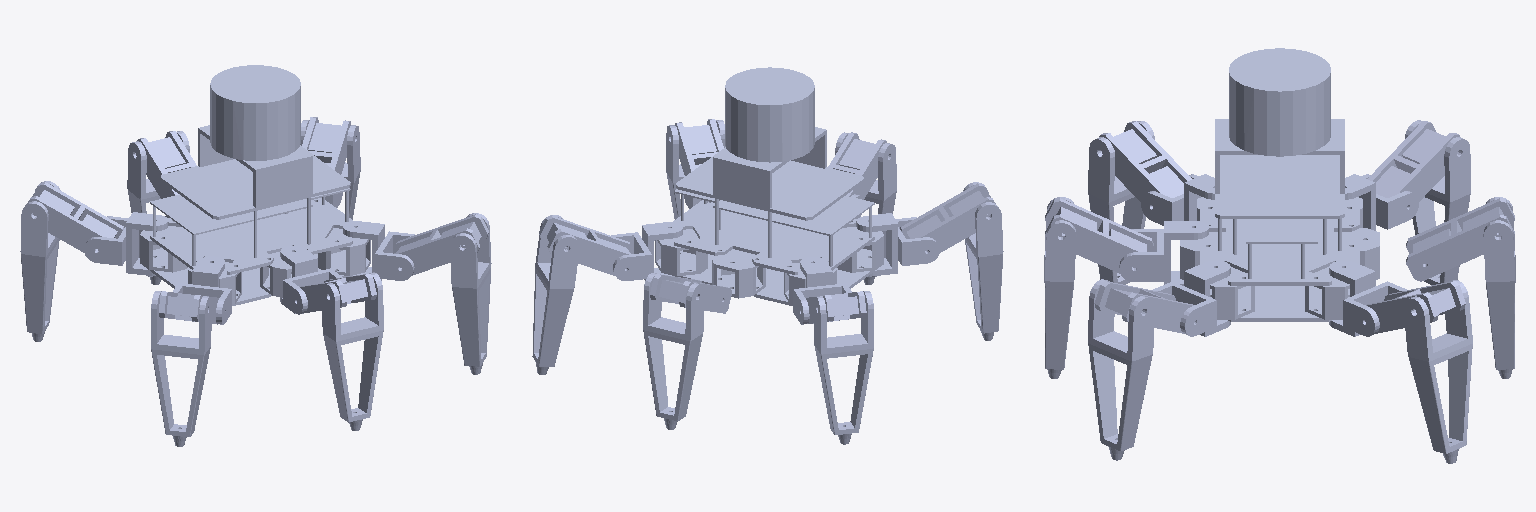
--- What the picture shows (computed from the rendered views, not written in the file) ---
Views: 3 orthographic renders of the robot side by side, from view 1: azimuth 30°, elevation 25°; view 2: azimuth 150°, elevation 25°; view 3: azimuth 270°, elevation 25°.
Robot: hexapod_haibot — 32 links, 31 joints (18 revolute, 13 fixed); root link base_link; default pose: all joints at 0.
Links seen in each view (by area): view 1: base_link, tibia_3, tibia_1, tibia_5, tibia_6, femur_6, femur_1, coxa_6, coxa_1, coxa_3, femur_4, coxa_5 (+5 smaller); view 2: base_link, tibia_4, tibia_2, tibia_6, tibia_5, femur_5, femur_2, coxa_5, coxa_2, femur_3, femur_4, coxa_6 (+4 smaller); view 3: base_link, tibia_2, tibia_1, femur_4, tibia_3, tibia_4, femur_5, femur_6, femur_3, tibia_6, tibia_5, coxa_2 (+6 smaller).
Boxes of the visible links, left/top/right/bottom form: base_link: left=140, top=65, right=370, bottom=305; tibia_3: left=322, top=272, right=383, bottom=430; tibia_1: left=450, top=213, right=491, bottom=374; tibia_5: left=151, top=291, right=211, bottom=446; tibia_6: left=20, top=181, right=60, bottom=341; femur_6: left=28, top=182, right=123, bottom=252; femur_1: left=394, top=214, right=488, bottom=275; coxa_6: left=84, top=212, right=167, bottom=275; coxa_1: left=343, top=221, right=414, bottom=280; coxa_3: left=280, top=246, right=342, bottom=314; femur_4: left=137, top=131, right=196, bottom=198; coxa_5: left=173, top=256, right=231, bottom=324; base_link: left=655, top=67, right=883, bottom=305; tibia_4: left=643, top=273, right=704, bottom=429; tibia_2: left=532, top=215, right=579, bottom=374; tibia_6: left=814, top=291, right=873, bottom=444; tibia_5: left=963, top=182, right=1003, bottom=340; femur_5: left=900, top=183, right=995, bottom=252; femur_2: left=539, top=215, right=632, bottom=275; coxa_5: left=856, top=213, right=939, bottom=276; coxa_2: left=611, top=222, right=682, bottom=280; femur_3: left=828, top=132, right=886, bottom=198; femur_4: left=650, top=274, right=731, bottom=313; coxa_6: left=793, top=257, right=851, bottom=324; base_link: left=1180, top=48, right=1379, bottom=321; tibia_2: left=1403, top=280, right=1472, bottom=463; tibia_1: left=1088, top=279, right=1154, bottom=460; femur_4: left=1406, top=198, right=1514, bottom=281; tibia_3: left=1044, top=197, right=1076, bottom=378; tibia_4: left=1483, top=197, right=1515, bottom=378; femur_5: left=1099, top=121, right=1191, bottom=201; femur_6: left=1368, top=121, right=1459, bottom=201; femur_3: left=1045, top=198, right=1153, bottom=273; tibia_6: left=1405, top=120, right=1470, bottom=284; tibia_5: left=1088, top=121, right=1154, bottom=284; coxa_2: left=1329, top=261, right=1406, bottom=336.
Bounding box of the posed robot: 0.4463 × 0.4723 × 0.3404 m (x, y, z).
Meshes: 20 distinct files referenced, 18 mesh visuals loaded (14 binary STL); not drawn: 6 (reference not matched to a file when rendering).

The robot description file, URDF, robot "hexapod_haibot":
<?xml version="1.0"?>
<!-- This URDF was automatically created by SolidWorks to URDF Exporter! Originally created by Stephen Brawner ([email redacted]) 
     Commit Version: 1.6.0-4-g7f85cfe  Build Version: 1.6.7995.38578
     For more information, please see http://wiki.ros.org/sw_urdf_exporter -->
<robot name="hexapod_haibot" xmlns:xacro="http://www.ros.org/wiki/xacro">

  <!-- MATERIAL PROPERTIES -->
  <gazebo reference="base_link">
    <material>Gazebo/DarkGrey</material>
  </gazebo>
  <gazebo reference="coxa_1">
    <material>Gazebo/FlatBlack</material>
  </gazebo>
  <gazebo reference="coxa_2">
    <material>Gazebo/FlatBlack</material>
  </gazebo>
  <gazebo reference="coxa_3">
    <material>Gazebo/FlatBlack</material>
  </gazebo>
  <gazebo reference="coxa_4">
    <material>Gazebo/FlatBlack</material>
  </gazebo>
  <gazebo reference="coxa_5">
    <material>Gazebo/FlatBlack</material>
  </gazebo>
  <gazebo reference="coxa_6">
    <material>Gazebo/FlatBlack</material>
  </gazebo>
  <gazebo reference="femur_1">
    <material>Gazebo/TurquoiseGlowOutline</material>
  </gazebo>
  <gazebo reference="femur_2">
    <material>Gazebo/TurquoiseGlowOutline</material>
  </gazebo>
  <gazebo reference="femur_3">
    <material>Gazebo/TurquoiseGlowOutline</material>
  </gazebo>
  <gazebo reference="femur_4">
    <material>Gazebo/TurquoiseGlowOutline</material>
  </gazebo>
  <gazebo reference="femur_5">
    <material>Gazebo/TurquoiseGlowOutline</material>
  </gazebo>
  <gazebo reference="femur_6">
    <material>Gazebo/TurquoiseGlowOutline</material>
  </gazebo>
  <gazebo reference="tibia_1">
    <material>Gazebo/FlatBlack</material>
  </gazebo>
  <gazebo reference="tibia_2">
    <material>Gazebo/FlatBlack</material>
  </gazebo>
  <gazebo reference="tibia_3">
    <material>Gazebo/FlatBlack</material>
  </gazebo>
  <gazebo reference="tibia_4">
    <material>Gazebo/FlatBlack</material>
  </gazebo>
  <gazebo reference="tibia_5">
    <material>Gazebo/FlatBlack</material>
  </gazebo>
  <gazebo reference="tibia_6">
    <material>Gazebo/FlatBlack</material>
  </gazebo>

  <!-- ############################################################################################################### -->
  <!-- ROBOT BASE -->
  <link name="base_link">
    <inertial>
      <origin
        xyz="-0.000235954357342192 7.5432764818938E-06 0.1227178717292"
        rpy="0 0 0" />
      <mass
        value="1.21169978454244" />
      <inertia
        ixx="0.00915831944870311"
        ixy="-7.1052111963795E-07"
        ixz="-8.84150170670575E-06"
        iyy="0.00979644782668003"
        iyz="1.97028180144623E-07"
        izz="0.00428132557153675" />
    </inertial>
    <visual>
      <origin
        xyz="0 0 0"
        rpy="0 0 0" />
      <geometry>
        <mesh
          filename="package://hexapod_haibot/meshes/base_link.STL" />
      </geometry>
      <material
        name="">
        <color
          rgba="0.792156862745098 0.819607843137255 0.929411764705882 1" />
      </material>
    </visual>
    <collision>
      <origin
        xyz="0 0 0"
        rpy="0 0 0" />
      <geometry>
        <mesh
          filename="package://hexapod_haibot/meshes/base_link.STL" />
      </geometry>
    </collision>
  </link>
  
  <!-- ############################################################################################################### -->
  <!-- LEG 1 -->
  <link name="coxa_1">
    <inertial>
      <origin
        xyz="0.0299971745393872 2.63709657195854E-06 0.022"
        rpy="0 0 0" />
      <mass
        value="0.0551210467328803" />
      <inertia
        ixx="3.53282132522675E-05"
        ixy="-4.36119640905399E-09"
        ixz="-1.55271915250144E-21"
        iyy="3.83050011945573E-05"
        iyz="-2.05291309065013E-21"
        izz="3.83009260758547E-05" />
    </inertial>
    <visual>
      <origin
        xyz="0 0 0"
        rpy="0 0 0" />
      <geometry>
        <mesh
          filename="package://hexapod_haibot/meshes/coxa_1.STL" />
      </geometry>
      <material
        name="">
        <color
          rgba="0.792156862745098 0.819607843137255 0.933333333333333 1" />
      </material>
    </visual>
    <collision>
      <origin
        xyz="0 0 0"
        rpy="0 0 0" />
      <geometry>
        <mesh
          filename="package://hexapod_haibot/meshes/coxa_1.STL" />
      </geometry>
    </collision>
  </link>

  <joint name="coxa_1_joint" type="revolute">
    <origin
      xyz="0.094347 -0.064347 0"
      rpy="0 0 -0.7854" />
    <parent
      link="base_link" />
    <child
      link="coxa_1" />
    <axis
      xyz="0 0 1" />
    <limit
      lower="-1.5708"
      upper="1.5708"
      effort="3"
      velocity="0.3124" />
  </joint>

  <transmission name="coxa_transmission_1">
    <type>transmission_interface/SimpleTransmission</type>
    <joint name="coxa_1_joint">
      <hardwareInterface>hardware_interface/EffortJointInterface</hardwareInterface>
    </joint>
    <actuator name="coxa_motor_1">
      <hardwareInterface>hardware_interface/EffortJointInterface</hardwareInterface>
      <mechanicalReduction>1</mechanicalReduction>
    </actuator>
  </transmission>

  <link name="femur_1">
    <inertial>
      <origin
        xyz="0.0390038961416134 2.77555756156289E-17 -0.000127300882164495"
        rpy="0 0 0" />
      <mass
        value="0.101060221285622" />
      <inertia
        ixx="2.70779732387671E-05"
        ixy="-8.89384594617015E-20"
        ixz="7.62790212769359E-09"
        iyy="0.000113343849974385"
        iyz="1.97805872036324E-20"
        izz="9.72264920104687E-05" />
    </inertial>
    <visual>
      <origin
        xyz="0 0 0"
        rpy="0 0 0" />
      <geometry>
        <mesh
          filename="package://hexapod_haibot/meshes/femur_4.STL" />
      </geometry>
      <material
        name="">
        <color
          rgba="0.792156862745098 0.819607843137255 0.933333333333333 1" />
      </material>
    </visual>
    <collision>
      <origin
        xyz="0 0 0"
        rpy="0 0 0" />
      <geometry>
        <mesh
          filename="package://hexapod_haibot/meshes/femur_4.STL" />
      </geometry>
    </collision>
  </link>

  <joint name="femur_1_joint" type="revolute">
    <origin
      xyz="0.06 0 0.022"
      rpy="1.5708 0.453 -3.1416" />
      <!-- rpy="1.5708 0.58376 -3.1416" /> -->
    <parent
      link="coxa_1" />
    <child
      link="femur_1" />
    <axis
      xyz="0 0 1" />
    <limit
      lower="-1.5708"
      upper="1.5708"
      effort="3"
      velocity="0.3124" />
  </joint>

  <transmission name="femur_transmission_1">
    <type>transmission_interface/SimpleTransmission</type>
    <joint name="femur_1_joint">
      <hardwareInterface>hardware_interface/EffortJointInterface</hardwareInterface>
    </joint>
    <actuator name="femur_motor_1">
      <hardwareInterface>hardware_interface/EffortJointInterface</hardwareInterface>
      <mechanicalReduction>1</mechanicalReduction>
    </actuator>
  </transmission>

  <link name="tibia_1">
    <inertial>
      <origin
        xyz="0.0647793877370392 1.67357076114039E-07 4.11404578147534E-08"
        rpy="0 0 0" />
      <mass
        value="0.079753578257712" />
      <inertia
        ixx="4.29473134297159E-05"
        ixy="-5.47973506953978E-10"
        ixz="1.27952682207062E-10"
        iyy="0.000201360752347867"
        iyz="-5.78595613011558E-11"
        izz="0.000168424442883887" />
    </inertial>
    <visual>
      <origin
        xyz="0 0 0"
        rpy="0 0 0" />
      <geometry>
        <mesh
          filename="package://hexapod_haibot/meshes/tibia_4.STL" />
      </geometry>
      <material
        name="">
        <color
          rgba="0.792156862745098 0.819607843137255 0.933333333333333 1" />
      </material>
    </visual>
    <collision>
      <origin
        xyz="0 0 0"
        rpy="0 0 0" />
      <geometry>
        <mesh
          filename="package://hexapod_haibot/meshes/tibia_4.STL" />
      </geometry>
    </collision>
  </link>

  <joint name="tibia_1_joint" type="revolute">
    <origin
      xyz="-0.081164 0 0"
      rpy="0 0 -1.1616" />
    <parent
      link="femur_1" />
    <child
      link="tibia_1" />
    <axis
      xyz="0 0 1" />
    <limit
      lower="-1.5708"
      upper="1.5708"
      effort="3"
      velocity="0.3124" />
  </joint>

  <transmission name="tibia_transmission_1">
    <type>transmission_interface/SimpleTransmission</type>
    <joint name="tibia_1_joint">
      <hardwareInterface>hardware_interface/EffortJointInterface</hardwareInterface>
    </joint>
    <actuator name="tibia_motor_1">
      <hardwareInterface>hardware_interface/EffortJointInterface</hardwareInterface>
      <mechanicalReduction>1</mechanicalReduction>
    </actuator>
  </transmission>

  <!-- ############################################################################################################### -->
  <!-- LEG 3 -->
  <link name="coxa_3">
    <inertial>
      <origin
        xyz="0.0299971745393872 2.63709657192536E-06 0.022"
        rpy="0 0 0" />
      <mass
        value="0.0551210467328803" />
      <inertia
        ixx="3.53282132522675E-05"
        ixy="-4.36119640902418E-09"
        ixz="3.90477967527937E-22"
        iyy="3.83050011945573E-05"
        iyz="1.21828494571067E-22"
        izz="3.83009260758546E-05" />
    </inertial>
    <visual>
      <origin
        xyz="0 0 0"
        rpy="0 0 0" />
      <geometry>
        <mesh
          filename="package://hexapod_haibot/meshes/coxa_3.STL" />
      </geometry>
      <material
        name="">
        <color
          rgba="0.792156862745098 0.819607843137255 0.933333333333333 1" />
      </material>
    </visual>
    <collision>
      <origin
        xyz="0 0 0"
        rpy="0 0 0" />
      <geometry>
        <mesh
          filename="package://hexapod_haibot/meshes/coxa_3.STL" />
      </geometry>
    </collision>
  </link>

  <joint name="coxa_3_joint" type="revolute">
    <origin
      xyz="0 -0.086 0"
      rpy="0 0 -1.5708" />
    <parent
      link="base_link" />
    <child
      link="coxa_3" />
    <axis
      xyz="0 0 1" />
    <limit
      lower="-1.5708"
      upper="1.5708"
      effort="3"
      velocity="0.3124" />
  </joint>

  <transmission name="coxa_transmission_3">
    <type>transmission_interface/SimpleTransmission</type>
    <joint name="coxa_3_joint">
      <hardwareInterface>hardware_interface/EffortJointInterface</hardwareInterface>
    </joint>
    <actuator name="coxa_motor_3">
      <hardwareInterface>hardware_interface/EffortJointInterface</hardwareInterface>
      <mechanicalReduction>1</mechanicalReduction>
    </actuator>
  </transmission>

  <link name="femur_3">
    <inertial>
      <origin
        xyz="-0.0389961038583868 2.77555756156289E-16 -0.000127300882164621"
        rpy="0 0 0" />
      <mass
        value="0.101060221285622" />
      <inertia
        ixx="2.70779732387671E-05"
        ixy="-5.33630756770209E-20"
        ixz="7.62790212764186E-09"
        iyy="0.000113343849974385"
        iyz="-2.58075379411868E-21"
        izz="9.72264920104688E-05" />
    </inertial>
    <visual>
      <origin
        xyz="0 0 0"
        rpy="0 0 0" />
      <geometry>
        <mesh
          filename="package://hexapod_haibot/meshes/femur_3.STL" />
      </geometry>
      <material
        name="">
        <color
          rgba="0.792156862745098 0.819607843137255 0.933333333333333 1" />
      </material>
    </visual>
    <collision>
      <origin
        xyz="0 0 0"
        rpy="0 0 0" />
      <geometry>
        <mesh
          filename="package://hexapod_haibot/meshes/femur_3.STL" />
      </geometry>
    </collision>
  </link>

  <joint name="femur_3_joint" type="revolute">
    <origin
      xyz="0.06 0 0.022"
      rpy="1.5708 0.453 -3.1416" />
      <!-- rpy="1.5708 0.65437 -3.1416" /> -->
    <parent
      link="coxa_3" />
    <child
      link="femur_3" />
    <axis
      xyz="0 0 1" />
    <limit
      lower="-1.5708"
      upper="1.5708"
      effort="3"
      velocity="0.3124" />
  </joint>

  <transmission name="femur_transmission_3">
    <type>transmission_interface/SimpleTransmission</type>
    <joint name="femur_3_joint">
      <hardwareInterface>hardware_interface/EffortJointInterface</hardwareInterface>
    </joint>
    <actuator name="femur_motor_3">
      <hardwareInterface>hardware_interface/EffortJointInterface</hardwareInterface>
      <mechanicalReduction>1</mechanicalReduction>
    </actuator>
  </transmission>

  <link name="tibia_3">
    <inertial>
      <origin
        xyz="0.0647793402516186 1.63043285095199E-07 0.000500038719800596"
        rpy="0 0 0" />
      <mass
        value="0.0797534321360177" />
      <inertia
        ixx="4.29472906774755E-05"
        ixy="-4.35624446704931E-10"
        ixz="1.25207647799621E-10"
        iyy="0.000201360533986022"
        iyz="-6.29881027864269E-11"
        izz="0.000168424318950458" />
    </inertial>
    <visual>
      <origin
        xyz="0 0 0"
        rpy="0 0 0" />
      <geometry>
        <mesh
          filename="package://hexapod_haibot/meshes/tibia_4.STL" />
      </geometry>
      <material
        name="">
        <color
          rgba="0.792156862745098 0.819607843137255 0.933333333333333 1" />
      </material>
    </visual>
    <collision>
      <origin
        xyz="0 0 0"
        rpy="0 0 0" />
      <geometry>
        <mesh
          filename="package://hexapod_haibot/meshes/tibia_4.STL" />
      </geometry>
    </collision>
  </link>

  <joint name="tibia_3_joint" type="revolute">
    <origin
      xyz="-0.081164 0 0"
      rpy="0 0 -1.1616" />
    <parent
      link="femur_3" />
    <child
      link="tibia_3" />
    <axis
      xyz="0 0 1" />
    <limit
      lower="-1.5708"
      upper="1.5708"
      effort="3"
      velocity="0.3124" />
  </joint>

  <transmission name="tibia_transmission_3">
    <type>transmission_interface/SimpleTransmission</type>
    <joint name="tibia_3_joint">
      <hardwareInterface>hardware_interface/EffortJointInterface</hardwareInterface>
    </joint>
    <actuator name="tibia_motor_3">
      <hardwareInterface>hardware_interface/EffortJointInterface</hardwareInterface>
      <mechanicalReduction>1</mechanicalReduction>
    </actuator>
  </transmission>

  <!-- ############################################################################################################### -->
  <!-- LEG 5 -->
  <link name="coxa_5">
    <inertial>
      <origin
        xyz="0.0299971745393872 2.63709657191691E-06 0.022"
        rpy="0 0 0" />
      <mass
        value="0.0551210467328803" />
      <inertia
        ixx="3.53282132522675E-05"
        ixy="-4.36119640903196E-09"
        ixz="9.49349879329603E-22"
        iyy="3.83050011945573E-05"
        iyz="-2.09182526603576E-21"
        izz="3.83009260758547E-05" />
    </inertial>
    <visual>
      <origin
        xyz="0 0 0"
        rpy="0 0 0" />
      <geometry>
        <mesh
          filename="package://hexapod_haibot/meshes/coxa_5.STL" />
      </geometry>
      <material
        name="">
        <color
          rgba="0.792156862745098 0.819607843137255 0.933333333333333 1" />
      </material>
    </visual>
    <collision>
      <origin
        xyz="0 0 0"
        rpy="0 0 0" />
      <geometry>
        <mesh
          filename="package://hexapod_haibot/meshes/coxa_5.STL" />
      </geometry>
    </collision>
  </link>

  <joint name="coxa_5_joint" type="revolute">
    <origin
      xyz="-0.094347 -0.064347 0"
      rpy="0 0 -2.3562" />
    <parent
      link="base_link" />
    <child
      link="coxa_5" />
    <axis
      xyz="0 0 1" />
    <limit
      lower="-1.5708"
      upper="1.5708"
      effort="3"
      velocity="0.3124" />
  </joint>

  <transmission name="coxa_transmission_5">
    <type>transmission_interface/SimpleTransmission</type>
    <joint name="coxa_5_joint">
      <hardwareInterface>hardware_interface/EffortJointInterface</hardwareInterface>
    </joint>
    <actuator name="coxa_motor_5">
      <hardwareInterface>hardware_interface/EffortJointInterface</hardwareInterface>
      <mechanicalReduction>1</mechanicalReduction>
    </actuator>
  </transmission>

  <link name="femur_5">
    <inertial>
      <origin
        xyz="-0.0389961038583868 2.63677968348475E-16 0.000372699117835631"
        rpy="0 0 0" />
      <mass
        value="0.101060221285622" />
      <inertia
        ixx="2.70779732387672E-05"
        ixy="-3.89635155736978E-20"
        ixz="7.62790212769673E-09"
        iyy="0.000113343849974385"
        iyz="-1.00933501008031E-20"
        izz="9.72264920104688E-05" />
    </inertial>
    <visual>
      <origin
        xyz="0 0 0"
        rpy="0 0 0" />
      <geometry>
        <mesh
          filename="package://hexapod_haibot/meshes/femur_5.STL" />
      </geometry>
      <material
        name="">
        <color
          rgba="0.792156862745098 0.819607843137255 0.933333333333333 1" />
      </material>
    </visual>
    <collision>
      <origin
        xyz="0 0 0"
        rpy="0 0 0" />
      <geometry>
        <mesh
          filename="package://hexapod_haibot/meshes/femur_5.STL" />
      </geometry>
    </collision>
  </link>

  <joint name="femur_5_joint" type="revolute">
    <origin
      xyz="0.06 0 0.022"
      rpy="1.5708 0.453 -3.1416" />
      <!-- rpy="1.5708 0.59326 -3.1416" /> -->
    <parent
      link="coxa_5" />
    <child
      link="femur_5" />
    <axis
      xyz="0 0 1" />
    <limit
      lower="-1.5708"
      upper="1.5708"
      effort="3"
      velocity="0.3124" />
  </joint>

  <transmission name="femur_transmission_5">
    <type>transmission_interface/SimpleTransmission</type>
    <joint name="femur_5_joint">
      <hardwareInterface>hardware_interface/EffortJointInterface</hardwareInterface>
    </joint>
    <actuator name="femur_motor_5">
      <hardwareInterface>hardware_interface/EffortJointInterface</hardwareInterface>
      <mechanicalReduction>1</mechanicalReduction>
    </actuator>
  </transmission>

  <link name="tibia_5">
    <inertial>
      <origin
        xyz="0.064779381457328 1.66896180764375E-07 3.80265846762484E-08"
        rpy="0 0 0" />
      <mass
        value="0.0797535514364952" />
      <inertia
        ixx="4.29473122557609E-05"
        ixy="-5.2039318251951E-10"
        ixz="1.2934666126771E-10"
        iyy="0.000201360728465127"
        iyz="-5.89853202898421E-11"
        izz="0.000168424442624692" />
    </inertial>
    <visual>
      <origin
        xyz="0 0 0"
        rpy="0 0 0" />
      <geometry>
        <mesh
          filename="package://hexapod_haibot/meshes/tibia_4.STL" />
      </geometry>
      <material
        name="">
        <color
          rgba="0.792156862745098 0.819607843137255 0.933333333333333 1" />
      </material>
    </visual>
    <collision>
      <origin
        xyz="0 0 0"
        rpy="0 0 0" />
      <geometry>
        <mesh
          filename="package://hexapod_haibot/meshes/tibia_4.STL" />
      </geometry>
    </collision>
  </link>

  <joint name="tibia_5_joint" type="revolute">
    <origin
      xyz="-0.081164 0 0"
      rpy="0 0 -1.1616" />
    <parent
      link="femur_5" />
    <child
      link="tibia_5" />
    <axis
      xyz="0 0 1" />
    <limit
      lower="-1.5708"
      upper="1.5708"
      effort="3"
      velocity="0.3124" />
  </joint>

  <transmission name="tibia_transmission_5">
    <type>transmission_interface/SimpleTransmission</type>
    <joint name="tibia_5_joint">
      <hardwareInterface>hardware_interface/EffortJointInterface</hardwareInterface>
    </joint>
    <actuator name="tibia_motor_5">
      <hardwareInterface>hardware_interface/EffortJointInterface</hardwareInterface>
      <mechanicalReduction>1</mechanicalReduction>
    </actuator>
  </transmission>

  <!-- ############################################################################################################### --> 
  <!-- LEG 2 -->
  <link name="coxa_2">
    <inertial>
      <origin
        xyz="0.0299971745393872 2.63709657193772E-06 0.022"
        rpy="0 0 0" />
      <mass
        value="0.0551210467328803" />
      <inertia
        ixx="3.53282132522675E-05"
        ixy="-4.3611964090218E-09"
        ixz="8.81059334345057E-21"
        iyy="3.83050011945573E-05"
        iyz="-4.92950676674719E-21"
        izz="3.83009260758546E-05" />
    </inertial>
    <visual>
      <origin
        xyz="0 0 0"
        rpy="0 0 0" />
      <geometry>
        <mesh
          filename="package://hexapod_haibot/meshes/coxa_2.STL" />
      </geometry>
      <material
        name="">
        <color
          rgba="0.792156862745098 0.819607843137255 0.933333333333333 1" />
      </material>
    </visual>
    <collision>
      <origin
        xyz="0 0 0"
        rpy="0 0 0" />
      <geometry>
        <mesh
          filename="package://hexapod_haibot/meshes/coxa_2.STL" />
      </geometry>
    </collision>
  </link>

  <joint name="coxa_2_joint" type="revolute">
    <origin
      xyz="0.094347 0.064347 0"
      rpy="0 0 0.7854" />
    <parent
      link="base_link" />
    <child
      link="coxa_2" />
    <axis
      xyz="0 0 1" />
    <limit
      lower="-1.5708"
      upper="1.5708"
      effort="3"
      velocity="0.3124" />
  </joint>

  <transmission name="coxa_transmission_2">
    <type>transmission_interface/SimpleTransmission</type>
    <joint name="coxa_2_joint">
      <hardwareInterface>hardware_interface/EffortJointInterface</hardwareInterface>
    </joint>
    <actuator name="coxa_motor_2">
      <hardwareInterface>hardware_interface/EffortJointInterface</hardwareInterface>
      <mechanicalReduction>1</mechanicalReduction>
    </actuator>
  </transmission>

  <link name="femur_2">
    <inertial>
      <origin
        xyz="0.0390038961416136 2.22044604925031E-16 0.000372699117835738"
        rpy="0 0 0" />
      <mass
        value="0.101060221285622" />
      <inertia
        ixx="2.70779732387671E-05"
        ixy="1.94817577868489E-20"
        ixz="7.62790212765604E-09"
        iyy="0.000113343849974385"
        iyz="-7.75657963482918E-21"
        izz="9.72264920104688E-05" />
    </inertial>
    <visual>
      <origin
        xyz="0 0 0"
        rpy="0 0 0" />
      <geometry>
        <mesh
          filename="package://hexapod_haibot/meshes/femur_2.STL" />
      </geometry>
      <material
        name="">
        <color
          rgba="0.792156862745098 0.819607843137255 0.933333333333333 1" />
      </material>
    </visual>
    <collision>
      <origin
        xyz="0 0 0"
        rpy="0 0 0" />
      <geometry>
        <mesh
          filename="package://hexapod_haibot/meshes/femur_2.STL" />
      </geometry>
    </collision>
  </link>

  <joint name="femur_2_joint" type="revolute">
    <origin
      xyz="0.06 0 0.022"
      rpy="-1.5708 -0.453 0" />
      <!-- rpy="-1.5708 -0.57076 0" /> -->
    <parent
      link="coxa_2" />
    <child
      link="femur_2" />
    <axis
      xyz="0 0 1" />
    <limit
      lower="-1.5708"
      upper="1.5708"
      effort="3"
      velocity="0.3124" />
  </joint>

  <transmission name="femur_transmission_2">
    <type>transmission_interface/SimpleTransmission</type>
    <joint name="femur_2_joint">
      <hardwareInterface>hardware_interface/EffortJointInterface</hardwareInterface>
    </joint>
    <actuator name="femur_motor_2">
      <hardwareInterface>hardware_interface/EffortJointInterface</hardwareInterface>
      <mechanicalReduction>1</mechanicalReduction>
    </actuator>
  </transmission>

  <link name="tibia_2">
    <inertial>
      <origin
        xyz="0.064779231371056 1.52274239939576E-07 2.12012769632008E-08"
        rpy="0 0 0" />
      <mass
        value="0.0797532028820055" />
      <inertia
        ixx="4.29472740175955E-05"
        ixy="-2.2659872412311E-10"
        ixz="1.75883824017712E-10"
        iyy="0.000201359999099"
        iyz="-5.69751259824872E-11"
        izz="0.00016842391204068" />
    </inertial>
    <visual>
      <origin
        xyz="0 0 0"
        rpy="0 0 0" />
      <geometry>
        <mesh
          filename="package://hexapod_haibot/meshes/tibia_2.STL" />
      </geometry>
      <material
        name="">
        <color
          rgba="0.792156862745098 0.819607843137255 0.933333333333333 1" />
      </material>
    </visual>
    <collision>
      <origin
        xyz="0 0 0"
        rpy="0 0 0" />
      <geometry>
        <mesh
          filename="package://hexapod_haibot/meshes/tibia_2.STL" />
      </geometry>
    </collision>
  </link>

  <joint name="tibia_2_joint" type="revolute">
    <origin
      xyz="0.078299 0 0"
      rpy="0 0 1.8965" />
    <parent
      link="femur_2" />
    <child
      link="tibia_2" />
    <axis
      xyz="0 0 1" />
    <limit
      lower="-1.5708"
      upper="1.5708"
      effort="3"
      velocity="0.3124" />
  </joint>

  <transmission name="tibia_transmission_2">
    <type>transmission_interface/SimpleTransmission</type>
    <joint name="tibia_2_joint">
      <hardwareInterface>hardware_interface/EffortJointInterface</hardwareInterface>
    </joint>
    <actuator name="tibia_motor_2">
      <hardwareInterface>hardware_interface/EffortJointInterface</hardwareInterface>
      <mechanicalReduction>1</mechanicalReduction>
    </actuator>
  </transmission>

  <!-- ############################################################################################################### -->
  <!-- LEG 4 -->
  <link name="coxa_4">
    <inertial>
      <origin
        xyz="0.0299971745393872 2.63709657194071E-06 0.022"
        rpy="0 0 0" />
      <mass
        value="0.0551210467328803" />
      <inertia
        ixx="3.53282132522675E-05"
        ixy="-4.36119640900866E-09"
        ixz="-5.5724425287956E-21"
        iyy="3.83050011945573E-05"
        iyz="5.74553126754583E-22"
        izz="3.83009260758547E-05" />
    </inertial>
    <visual>
      <origin
        xyz="0 0 0"
        rpy="0 0 0" />
      <geometry>
        <mesh
          filename="package://hexapod_haibot/meshes/coxa_4.STL" />
      </geometry>
      <material
        name="">
        <color
          rgba="0.792156862745098 0.819607843137255 0.933333333333333 1" />
      </material>
    </visual>
    <collision>
      <origin
        xyz="0 0 0"
        rpy="0 0 0" />
      <geometry>
        <mesh
          filename="package://hexapod_haibot/meshes/coxa_4.STL" />
      </geometry>
    </collision>
  </link>

  <joint name="coxa_4_joint" type="revolute">
    <origin
      xyz="0 0.086 0"
      rpy="0 0 1.5708" />
    <parent
      link="base_link" />
    <child
      link="coxa_4" />
    <axis
      xyz="0 0 1" />
    <limit
      lower="-1.5708"
      upper="1.5708"
      effort="3"
      velocity="0.3124" />
  </joint>

  <transmission name="coxa_transmission_4">
    <type>transmission_interface/SimpleTransmission</type>
    <joint name="coxa_4_joint">
      <hardwareInterface>hardware_interface/EffortJointInterface</hardwareInterface>
    </joint>
    <actuator name="coxa_motor_4">
      <hardwareInterface>hardware_interface/EffortJointInterface</hardwareInterface>
      <mechanicalReduction>1</mechanicalReduction>
    </actuator>
  </transmission>

  <link name="femur_4">
    <inertial>
      <origin
        xyz="-0.0389961038583868 6.93889390390723E-18 0.000372699117835451"
        rpy="0 0 0" />
      <mass
        value="0.101060221285622" />
      <inertia
        ixx="2.70779732387671E-05"
        ixy="-5.9292306307801E-20"
        ixz="7.62790212765125E-09"
        iyy="0.000113343849974385"
        iyz="-8.20455604477386E-22"
        izz="9.72264920104686E-05" />
    </inertial>
    <visual>
      <origin
        xyz="0 0 0"
        rpy="0 0 0" />
      <geometry>
        <mesh
          filename="package://hexapod_haibot/meshes/femur_4.STL" />
      </geometry>
      <material
        name="">
        <color
          rgba="0.792156862745098 0.819607843137255 0.933333333333333 1" />
      </material>
    </visual>
    <collision>
      <origin
        xyz="0 0 0"
        rpy="0 0 0" />
      <geometry>
        <mesh
          filename="package://hexapod_haibot/meshes/femur_4.STL" />
      </geometry>
    </collision>
  </link>

  <joint name="femur_4_joint" type="revolute">
    <origin
      xyz="0.06 0 0.022"
      rpy="1.5708 0.453 -3.1416" />
      <!-- rpy="1.5708 0.58376 -3.1416" /> -->
    <parent
      link="coxa_4" />
    <child
      link="femur_4" />
    <axis
      xyz="0 0 1" />
    <limit
      lower="-1.5708"
      upper="1.5708"
      effort="3"
      velocity="0.3124" />
  </joint>

  <transmission name="femur_transmission_4">
    <type>transmission_interface/SimpleTransmission</type>
    <joint name="femur_4_joint">
      <hardwareInterface>hardware_interface/EffortJointInterface</hardwareInterface>
    </joint>
    <actuator name="femur_motor_4">
      <hardwareInterface>hardware_interface/EffortJointInterface</hardwareInterface>
      <mechanicalReduction>1</mechanicalReduction>
    </actuator>
  </transmission>

  <link name="tibia_4">
    <inertial>
      <origin
        xyz="0.0647793120469972 1.611279220326E-07 3.42567992672011E-08"
        rpy="0 0 0" />
      <mass
        value="0.07975336132891" />
      <inertia
        ixx="4.29472859486317E-05"
        ixy="-3.70486815925145E-10"
        ixz="1.35541564551716E-10"
        iyy="0.000201360398778229"
        iyz="-6.22672928709645E-11"
        izz="0.000168424231028227" />
    </inertial>
    <visual>
      <origin
        xyz="0 0 0"
        rpy="0 0 0" />
      <geometry>
        <mesh
          filename="package://hexapod_haibot/meshes/tibia_4.STL" />
      </geometry>
      <material
        name="">
        <color
          rgba="0.792156862745098 0.819607843137255 0.933333333333333 1" />
      </material>
    </visual>
    <collision>
      <origin
        xyz="0 0 0"
        rpy="0 0 0" />
      <geometry>
        <mesh
          filename="package://hexapod_haibot/meshes/tibia_4.STL" />
      </geometry>
    </collision>
  </link>

  <joint name="tibia_4_joint" type="revolute">
    <origin
      xyz="-0.081164 0 0"
      rpy="0 0 -1.1616" />
    <parent
      link="femur_4" />
    <child
      link="tibia_4" />
    <axis
      xyz="0 0 1" />
    <limit
      lower="-1.5708"
      upper="1.5708"
      effort="3"
      velocity="0.3124" />
  </joint>

  <transmission name="tibia_transmission_4">
    <type>transmission_interface/SimpleTransmission</type>
    <joint name="tibia_4_joint">
      <hardwareInterface>hardware_interface/EffortJointInterface</hardwareInterface>
    </joint>
    <actuator name="tibia_motor_4">
      <hardwareInterface>hardware_interface/EffortJointInterface</hardwareInterface>
      <mechanicalReduction>1</mechanicalReduction>
    </actuator>
  </transmission>

  <!-- ############################################################################################################### -->
  <!-- LEG 6 -->
  <link name="coxa_6">
    <inertial>
      <origin
        xyz="0.0299971745393872 2.63709657190303E-06 0.022"
        rpy="0 0 0" />
      <mass
        value="0.0551210467328803" />
      <inertia
        ixx="3.53282132522675E-05"
        ixy="-4.36119640898961E-09"
        ixz="-1.11907764682274E-21"
        iyy="3.83050011945573E-05"
        iyz="-1.36376804916686E-21"
        izz="3.83009260758547E-05" />
    </inertial>
    <visual>
      <origin
        xyz="0 0 0"
        rpy="0 0 0" />
      <geometry>
        <mesh
          filename="package://hexapod_haibot/meshes/coxa_6.STL" />
      </geometry>
      <material
        name="">
        <color
          rgba="0.792156862745098 0.819607843137255 0.933333333333333 1" />
      </material>
    </visual>
    <collision>
      <origin
        xyz="0 0 0"
        rpy="0 0 0" />
      <geometry>
        <mesh
          filename="package://hexapod_haibot/meshes/coxa_6.STL" />
      </geometry>
    </collision>
  </link>

  <joint name="coxa_6_joint" type="revolute">
    <origin
      xyz="-0.094347 0.064347 0"
      rpy="0 0 2.3562" />
    <parent
      link="base_link" />
    <child
      link="coxa_6" />
    <axis
      xyz="0 0 1" />
    <limit
      lower="-1.5708"
      upper="1.5708"
      effort="3"
      velocity="0.3124" />
  </joint>

  <transmission name="coxa_transmission_6">
    <type>transmission_interface/SimpleTransmission</type>
    <joint name="coxa_6_joint">
      <hardwareInterface>hardware_interface/EffortJointInterface</hardwareInterface>
    </joint>
    <actuator name="coxa_motor_6">
      <hardwareInterface>hardware_interface/EffortJointInterface</hardwareInterface>
      <mechanicalReduction>1</mechanicalReduction>
    </actuator>
  </transmission>

  <link name="femur_6">
    <inertial>
      <origin
        xyz="-0.0389961038583869 3.46944695195361E-16 0.00037269911783694"
        rpy="0 0 0" />
      <mass
        value="0.101060221285622" />
      <inertia
        ixx="2.70779732387671E-05"
        ixy="6.09863722023096E-20"
        ixz="7.62790212765522E-09"
        iyy="0.000113343849974385"
        iyz="-1.14391904525344E-21"
        izz="9.72264920104687E-05" />
    </inertial>
    <visual>
      <origin
        xyz="0 0 0"
        rpy="0 0 0" />
      <geometry>
        <mesh
          filename="package://hexapod_haibot/meshes/femur_6.STL" />
      </geometry>
      <material
        name="">
        <color
          rgba="0.792156862745098 0.819607843137255 0.933333333333333 1" />
      </material>
    </visual>
    <collision>
      <origin
        xyz="0 0 0"
        rpy="0 0 0" />
      <geometry>
        <mesh
          filename="package://hexapod_haibot/meshes/femur_6.STL" />
      </geometry>
    </collision>
  </link>

  <joint name="femur_6_joint" type="revolute">
    <origin
      xyz="0.06 0 0.022"
      rpy="1.5708 0.453 -3.1416" />
      <!-- rpy="1.5708 0.6261 -3.1416" /> -->
    <parent
      link="coxa_6" />
    <child
      link="femur_6" />
    <axis
      xyz="0 0 1" />
    <limit
      lower="-1.5708"
      upper="1.5708"
      effort="3"
      velocity="0.3124" />
  </joint>

  <transmission name="femur_transmission_6">
    <type>transmission_interface/SimpleTransmission</type>
    <joint name="femur_6_joint">
      <hardwareInterface>hardware_interface/EffortJointInterface</hardwareInterface>
    </joint>
    <actuator name="femur_motor_6">
      <hardwareInterface>hardware_interface/EffortJointInterface</hardwareInterface>
      <mechanicalReduction>1</mechanicalReduction>
    </actuator>
  </transmission>

  <link name="tibia_6">
    <inertial>
      <origin
        xyz="0.0647792452262229 1.53521399037793E-07 0.00050002469269308"
        rpy="0 0 0" />
      <mass
        value="0.0797532266116497" />
      <inertia
        ixx="4.29472765643027E-05"
        ixy="-2.4511138159032E-10"
        ixz="1.64681151053905E-10"
        iyy="0.000201360069597061"
        iyz="-5.8558763893337E-11"
        izz="0.000168423974316692" />
    </inertial>
    <visual>
      <origin
        xyz="0 0 0"
        rpy="0 0 0" />
      <geometry>
        <mesh
          filename="package://hexapod_haibot/meshes/tibia_6.STL" />
      </geometry>
      <material
        name="">
        <color
          rgba="0.792156862745098 0.819607843137255 0.933333333333333 1" />
      </material>
    </visual>
    <collision>
      <origin
        xyz="0 0 0"
        rpy="0 0 0" />
      <geometry>
        <mesh
          filename="package://hexapod_haibot/meshes/tibia_6.STL" />
      </geometry>
    </collision>
  </link>

  <joint name="tibia_6_joint" type="revolute">
    <origin
      xyz="-0.081164 0 0"
      rpy="0 0 -1.1426" />
    <parent
      link="femur_6" />
    <child
      link="tibia_6" />
    <axis
      xyz="0 0 1" />
    <limit
      lower="-1.5708"
      upper="1.5708"
      effort="3"
      velocity="0.3124" />
  </joint>

  <transmission name="tibia_transmission_6">
    <type>transmission_interface/SimpleTransmission</type>
    <joint name="tibia_6_joint">
      <hardwareInterface>hardware_interface/EffortJointInterface</hardwareInterface>
    </joint>
    <actuator name="tibia_motor_6">
      <hardwareInterface>hardware_interface/EffortJointInterface</hardwareInterface>
      <mechanicalReduction>1</mechanicalReduction>
    </actuator>
  </transmission>

  <!-- ############################################################################################################### -->
  <!-- VLP-16 -->
  <joint name="VLP_mount_joint" type="fixed">
    <origin
      xyz="0 0 0.16"
      rpy="0 0 0" />
    <parent link="base_link"/>
    <child link="VLP_mount"/>
  </joint>

  <link name="VLP_mount">
    <inertial>
      <mass value="0.01"/>
      <origin xyz="0 0 0"/>
      <inertia
          ixx="1.0" ixy="0.0"  ixz="0.0"
          iyy="1.0" iyz="0.0"
          izz="1.0" />
    </inertial>
    <visual>
      <geometry>
        <mesh filename="package://hexapod_haibot/meshes/sensors/VLP16_base_1.dae" />
      </geometry>
    </visual>
    <visual>
      <geometry>
        <mesh filename="package://hexapod_haibot/meshes/sensors/VLP16_base_2.dae" />
      </geometry>
    </visual>
    <collision>
      <origin rpy="0 0 0" xyz="0 0 0"/>
      <geometry>
        <cylinder radius="0.0516" length="0.0717"/>
      </geometry>
    </collision>
  </link>

  <joint name="VLP_joint" type="fixed" >
    <origin xyz="0 0 0.01" rpy="0 0 0" />
    <parent link="VLP_mount" />
    <child link="velodyne"/>
  </joint>

  <link name="velodyne">
    <inertial>
      <mass value="0.01"/>
      <origin xyz="0 0 0"/>
      <inertia ixx="1e-7" ixy="0" ixz="0" iyy="1e-7" iyz="0" izz="1e-7"/>
    </inertial>
    <visual>
      <origin xyz="0 0 0" />
      <geometry>
        <mesh filename="package://hexapod_haibot/meshes/sensors/VLP16_scan.dae" />
      </geometry>
    </visual>
  </link>

  <!-- Gazebo requires the velodyne_gazebo_plugins package -->
  <gazebo reference="velodyne">
    <!-- type: {ray | gpu_ray} -->
      <sensor type="ray" name="velodyne_16"> 
        <pose>0 0 0 0 0 0</pose>
        <visualize>false</visualize>
        <update_rate>10</update_rate>
        <ray>
          <scan>
            <horizontal>
              <samples>60</samples>
              <resolution>1</resolution>
              <min_angle>-3.1415926535897931</min_angle>
              <max_angle>3.1415926535897931</max_angle>
              <!-- <min_angle>-1.570796</min_angle>
              <max_angle>1.570796</max_angle> -->
            </horizontal>
            <vertical>
              <samples>16</samples>
              <resolution>1</resolution>
              <min_angle>-0.261799388</min_angle>
              <max_angle>0.261799388</max_angle>
            </vertical>
          </scan>
          <range>
            <min>0.3</min>
            <max>10.0</max>
            <resolution>0.001</resolution>
          </range>
          <noise>
            <type>gaussian</type>
            <mean>0.0</mean>
            <stddev>0.0</stddev>
          </noise>
        </ray>
        <!-- filename="libgazebo_ros_velodyne_gpu_laser.so" -->
        <plugin name="gazebo_ros_laser_controller" filename="libgazebo_ros_velodyne_laser.so">
          <topicName>velodyne_points</topicName>
          <frameName>base_link</frameName>
          <min_range>0.3</min_range>
          <max_range>10.0</max_range>
          <gaussianNoise>0.008</gaussianNoise>
        </plugin>
      </sensor>
  </gazebo>

  <!-- ############################################################################################################### -->
  <!-- IMU -->
  <joint name="imu_joint" type="fixed">
    <parent link="base_link"/>
    <child link="imu_link"/>
    <origin xyz="-0.0254 0.02032 0.048" rpy="1.570796327 0 0"/>
  </joint>

  <link name="imu_link">
    <inertial>
      <mass value="0.01"/>
      <origin xyz="0 0 0"/>
      <inertia ixx="1e-7" ixy="0" ixz="0" iyy="1e-7" iyz="0" izz="1e-7"/>
    </inertial>
    <visual>
      <origin xyz="0 0 0" />
      <geometry>
        <mesh filename="package://hexapod_haibot/meshes/sensors/imu.stl" scale="0.002 0.002 0.002"/>
      </geometry>
    </visual>
  </link>

  <gazebo reference="imu_link">
    <gravity>true</gravity>
    <material>Gazebo/Grass</material>
    <sensor name="imu_sensor" type="imu">
      <always_on>true</always_on>
      <update_rate>100</update_rate>
      <visualize>true</visualize>
      <topic>__default_topic__</topic>
      <plugin filename="libgazebo_ros_imu_sensor.so" name="imu_plugin">
        <topicName>imu</topicName>
        <serviceName>imu_service</serviceName>
        <bodyName>imu_link</bodyName>
        <updateRateHZ>10.0</updateRateHZ>
        <gaussianNoise>0.0</gaussianNoise>
        <xyzOffset>0 0 0</xyzOffset>
        <rpyOffset>0 0 0</rpyOffset>
        <frameName>imu_link</frameName>
        <imu>
          <noise>
            <type>gaussian</type>
            <rate>
              <mean>0.0</mean>
              <stddev>2e-4</stddev>
              <bias_mean>0.0000075</bias_mean>
              <bias_stddev>0.0000008</bias_stddev>
            </rate>
            <accel>
              <mean>0.0</mean>
              <stddev>1.7e-2</stddev>
              <bias_mean>0.1</bias_mean>
              <bias_stddev>0.001</bias_stddev>
            </accel>
          </noise>
        </imu>
      </plugin>
      <pose>0 0 0 0 0 0</pose>
    </sensor>
  </gazebo>

  <!-- ############################################################################################################### -->
  <!-- REALSENSE -->
  <joint name="realsense_joint" type="fixed">
    <origin xyz="0.09 0.0125 0.1075" rpy="1.570796327 0 0"/>
    <parent link="base_link"/>
    <child link="realsense_bottom_screw_frame" />
  </joint>

  <link name="realsense_bottom_screw_frame"/>

  <joint name="realsense_link_joint" type="fixed">
    <origin xyz="0 0.0125 0.0125" rpy="0 0 0"/>
    <parent link="realsense_bottom_screw_frame"/>
    <child link="realsense_link" />
  </joint>

  <link name="realsense_link">
    <visual>
    <origin xyz="0 0 0" rpy="0 1.570796327 0"/>
      <geometry>
        <mesh filename="package://hexapod_haibot/meshes/sensors/realsense.stl" />
      </geometry>
    </visual>
    <collision>
      <origin xyz="0 0 0" rpy="0 1.570796327 0"/>
      <geometry>
        <mesh filename="package://hexapod_haibot/meshes/sensors/realsense.stl" />
      </geometry>
    </collision>
    <inertial>
      <!-- <mass value="0.564" /> -->
      <mass value="0.01" />
      <origin xyz="0 1.570796327 0" />
      <inertia ixx="0.0003881243" ixy="0.0" ixz="0.0" iyy="0.0000498940" iyz="0.0" izz="0.0003879257" />
    </inertial>
  </link>
 
  <!-- camera depth joints and links -->
  <joint name="realsense_depth_joint" type="fixed">
    <origin xyz="0 0 0" rpy="0 0 0"/>
    <parent link="realsense_link"/>
    <child link="realsense_depth_frame" />
  </joint>

  <link name="realsense_depth_frame"/>

  <joint name="realsense_depth_optical_joint" type="fixed">
    <origin xyz="0 0 0" rpy="-1.570796327 0 -1.570796327" />
    <parent link="realsense_depth_frame" />
    <child link="realsense_depth_optical_frame" />
  </joint>

  <link name="realsense_depth_optical_frame"/>
    
  <!-- camera left IR joints and links -->
  <joint name="realsense_left_ir_joint" type="fixed">
    <origin xyz="0 0.0 0" rpy="0 0 0" />
    <parent link="realsense_depth_frame" />
    <child link="realsense_left_ir_frame" />
  </joint>

  <link name="realsense_left_ir_frame"/>

  <joint name="realsense_left_ir_optical_joint" type="fixed">
    <origin xyz="0 0 0" rpy="-1.570796327 0 -1.570796327" />
    <parent link="realsense_left_ir_frame" />
    <child link="realsense_left_ir_optical_frame" />
  </joint>

  <link name="realsense_left_ir_optical_frame"/>

  <!-- camera right IR joints and links -->
  <joint name="realsense_right_ir_joint" type="fixed">
    <origin xyz="0 -0.05 0" rpy="0 0 0" />
    <parent link="realsense_depth_frame" />
    <child link="realsense_right_ir_frame" />
  </joint>

  <link name="realsense_right_ir_frame"/>

  <joint name="realsense_right_ir_optical_joint" type="fixed">
    <origin xyz="0 0 0" rpy="-1.570796327 0 -1.570796327" />
    <parent link="realsense_right_ir_frame" />
    <child link="realsense_right_ir_optical_frame" />
  </joint>

  <link name="realsense_right_ir_optical_frame"/>

  <!-- camera color joints and links -->
  <joint name="realsense_color_joint" type="fixed">
    <origin xyz="0 0.015 0" rpy="0 0 0" />
    <parent link="realsense_depth_frame" />
    <child link="realsense_color_frame" />
  </joint>

  <link name="realsense_color_frame"/>

  <joint name="realsense_color_optical_joint" type="fixed">
    <origin xyz="0 0 0" rpy="-1.570796327 0 -1.570796327" />
    <parent link="realsense_color_frame" />
    <child link="realsense_color_optical_frame" />
  </joint>
  
  <link name="realsense_color_optical_frame"/>

  <gazebo reference="realsense_link">
    <self_collide>0</self_collide>
    <enable_wind>0</enable_wind>
    <kinematic>0</kinematic>
    <gravity>1</gravity>
    <material>Gazebo/Grey</material>
    <!--<mu>1</mu>-->
    <mu2>1</mu2>
    <fdir1>0 0 0</fdir1>
    <!--<slip1>0</slip1>
    <slip2>0</slip2>-->
    <kp>1e+13</kp>
    <kd>1</kd>
    <!--<max_vel>0.01</max_vel>
    <min_depth>0</min_depth>-->
    <sensor name="realsense_color" type="camera">
      <camera name="realsense">
        <horizontal_fov>1.211258501</horizontal_fov>
        <image>
          <width>640</width>
          <height>480</height>
          <format>RGB_INT8</format>
        </image>
        <clip>
          <near>0.1</near>
          <far>100</far>
        </clip>
        <noise>
          <type>gaussian</type>
          <mean>0.0</mean>
          <stddev>0.007</stddev>
        </noise>
      </camera>
      <always_on>1</always_on>
      <update_rate>30</update_rate>
      <visualize>0</visualize>
    </sensor>
    
    <sensor name="realsense_ired1" type="camera">
      <camera name="realsense">
        <horizontal_fov>1.487020523</horizontal_fov>
        <image>
          <width>1280</width>
          <height>720</height>
          <format>L_INT8</format>
        </image>
        <clip>
          <near>0.1</near>
          <far>100</far>
        </clip>
        <noise>
          <type>gaussian</type>
          <mean>0.0</mean>
          <stddev>0.05</stddev>
        </noise>
      </camera>
      <always_on>1</always_on>
      <update_rate>90</update_rate>
      <visualize>0</visualize>
    </sensor>

    <sensor name="realsense_ired2" type="camera">
      <camera name="realsense">
        <horizontal_fov>1.487020523</horizontal_fov>
        <image>
          <width>1280</width>
          <height>720</height>
          <format>L_INT8</format>
        </image>
        <clip>
          <near>0.1</near>
          <far>100</far>
        </clip>
        <noise>
          <type>gaussian</type>
          <mean>0.0</mean>
          <stddev>0.05</stddev>
        </noise>
      </camera>
      <always_on>1</always_on>
      <update_rate>90</update_rate>
      <visualize>0</visualize>
    </sensor>

    <sensor name="realsense_depth" type="depth">
      <camera name="realsense">
        <horizontal_fov>1.487020523</horizontal_fov>
        <image>
          <width>1280</width>
          <height>720</height>
        </image>
        <clip>
          <near>0.1</near>
          <far>100</far>
        </clip>
        <noise>
          <type>gaussian</type>
          <mean>0.0</mean>
          <stddev>0.100</stddev>
        </noise>
      </camera>
      <always_on>1</always_on>
      <update_rate>90</update_rate>
      <visualize>0</visualize>
    </sensor>
  </gazebo>

  <gazebo>
    <plugin name="realsense" filename="librealsense_gazebo_plugin.so">
      <prefix>realsense</prefix>
      <depthUpdateRate>30.0</depthUpdateRate>
      <colorUpdateRate>30.0</colorUpdateRate>
      <infraredUpdateRate>30.0</infraredUpdateRate>
      <depthTopicName>depth/image_raw</depthTopicName>
      <depthCameraInfoTopicName>depth/camera_info</depthCameraInfoTopicName>
      <colorTopicName>color/image_raw</colorTopicName>
      <colorCameraInfoTopicName>color/camera_info</colorCameraInfoTopicName>
      <infrared1TopicName>infra1/image_raw</infrared1TopicName>
      <infrared1CameraInfoTopicName>infra1/camera_info</infrared1CameraInfoTopicName>
      <infrared2TopicName>infra2/image_raw</infrared2TopicName>
      <infrared2CameraInfoTopicName>infra2/camera_info</infrared2CameraInfoTopicName>
      <colorOpticalframeName>realsense_color_optical_frame</colorOpticalframeName>
      <depthOpticalframeName>realsense_depth_optical_frame</depthOpticalframeName>
      <infrared1OpticalframeName>realsense_left_ir_frame</infrared1OpticalframeName>
      <infrared2OpticalframeName>realsense_right_ir_frame</infrared2OpticalframeName>
      <rangeMinDepth>0.2</rangeMinDepth>
      <rangeMaxDepth>10.0</rangeMaxDepth>
      <pointCloud>true</pointCloud>
      <pointCloudTopicName>depth/color/points</pointCloudTopicName>
      <pointCloudCutoff>0.25</pointCloudCutoff>
      <pointCloudCutoffMax>9.0</pointCloudCutoffMax>
      <!-- <frameName>realsense_link</frameName> -->
    </plugin>
  </gazebo>

  
  <!-- ############################################################################################################### -->
  <!-- GAZEBO PLUGIN -->
  <gazebo>
    <plugin filename="libgazebo_ros_control.so" name="gazebo_ros_control">
      <robotNamespace>/hexa_haibot</robotNamespace>
      <publishOdomTF>true</publishOdomTF>
      <alwaysOn>true</alwaysOn>
      <!-- <odometryTopic>odom</odometryTopic>
      <odometryFrame>odom</odometryFrame>
      <robotBaseFrame>base_link</robotBaseFrame> -->
    </plugin>
  </gazebo>

</robot>
